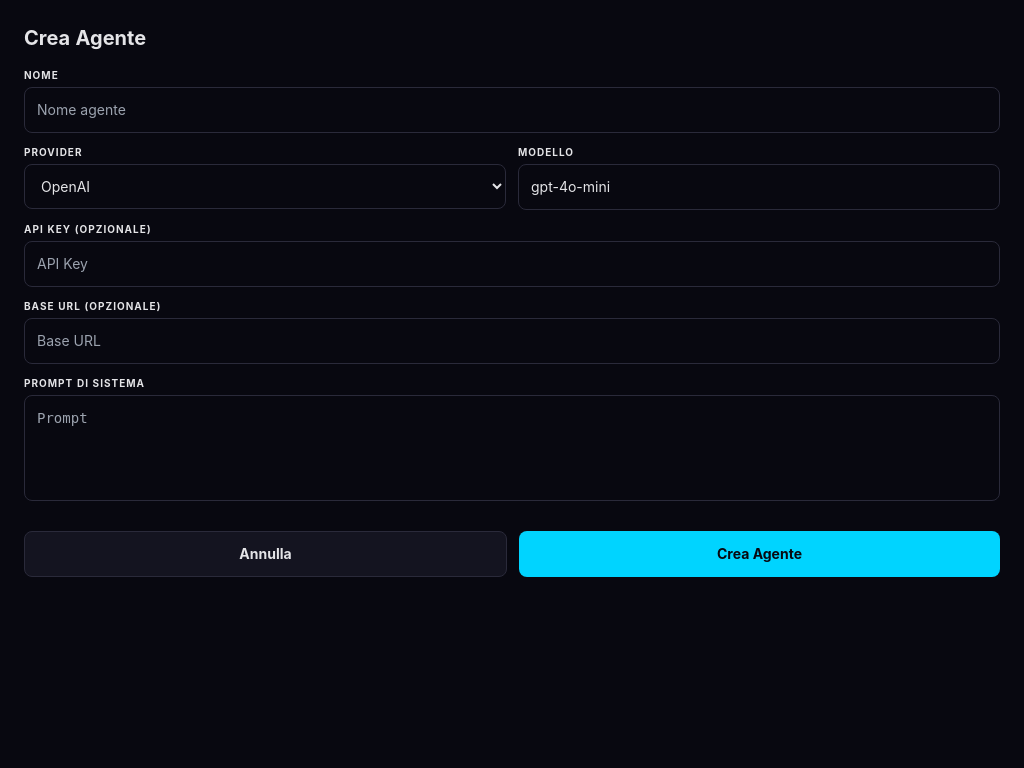
Scenario: AgentFormSlideOver › shows error when submitting empty name
What coordinates should you click on to do the following:
click the button "Crea Agente"
I would click on:
 (760, 554)
Its box is [519,531,1000,577].
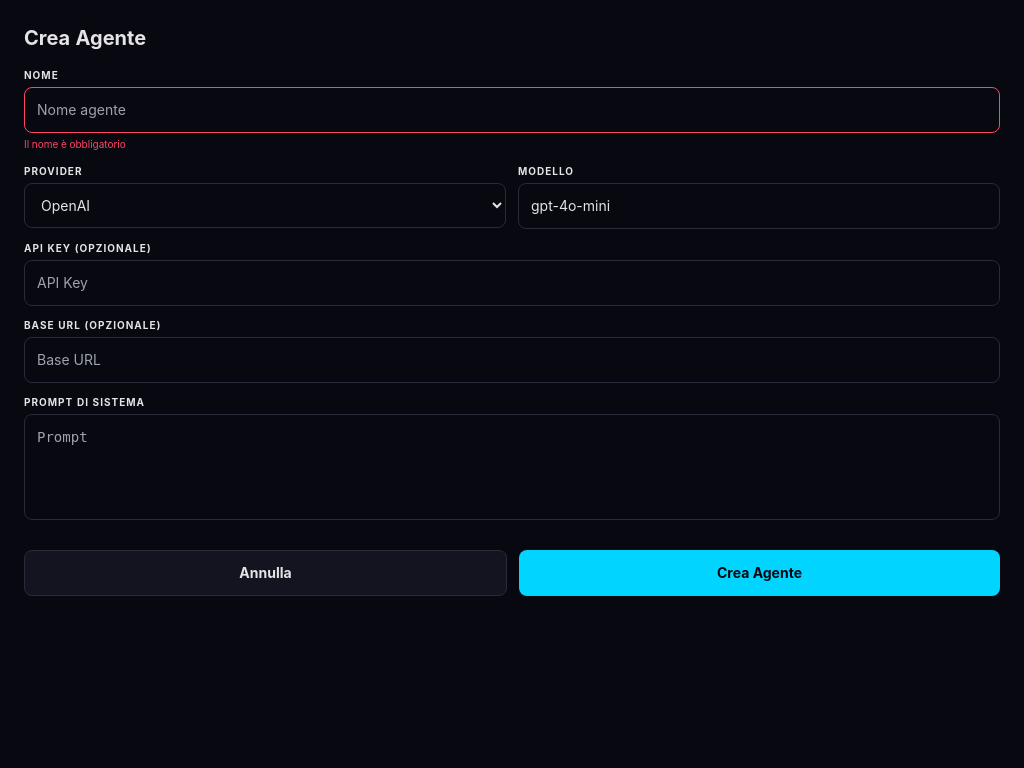
Check: the text "Il nome è obbligatorio" is shown, box [24,138,126,150]
